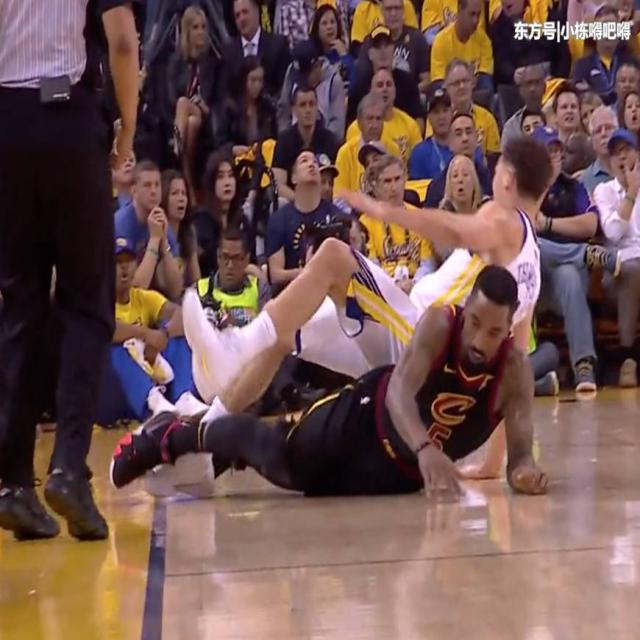10-: (0, 0, 639, 531)
down: (98, 264, 549, 504), (173, 138, 551, 403)
